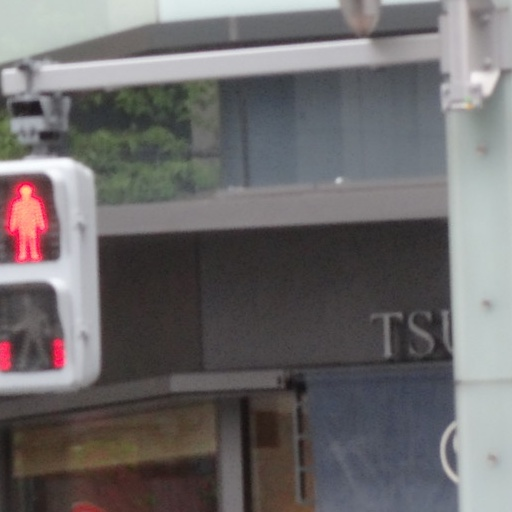Pedestrian_Signal_Red: (1, 150, 98, 387)
